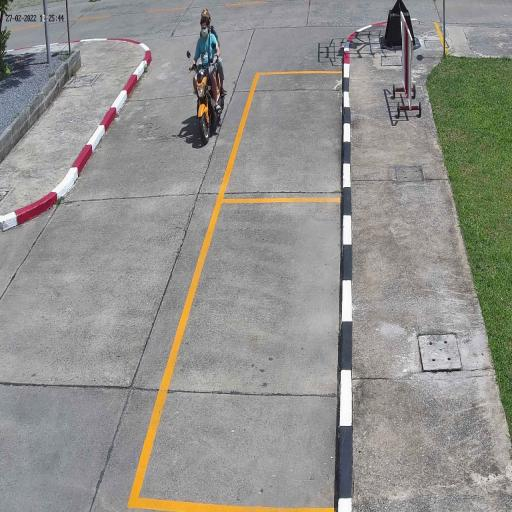motorcycle: (193, 65, 226, 144)
